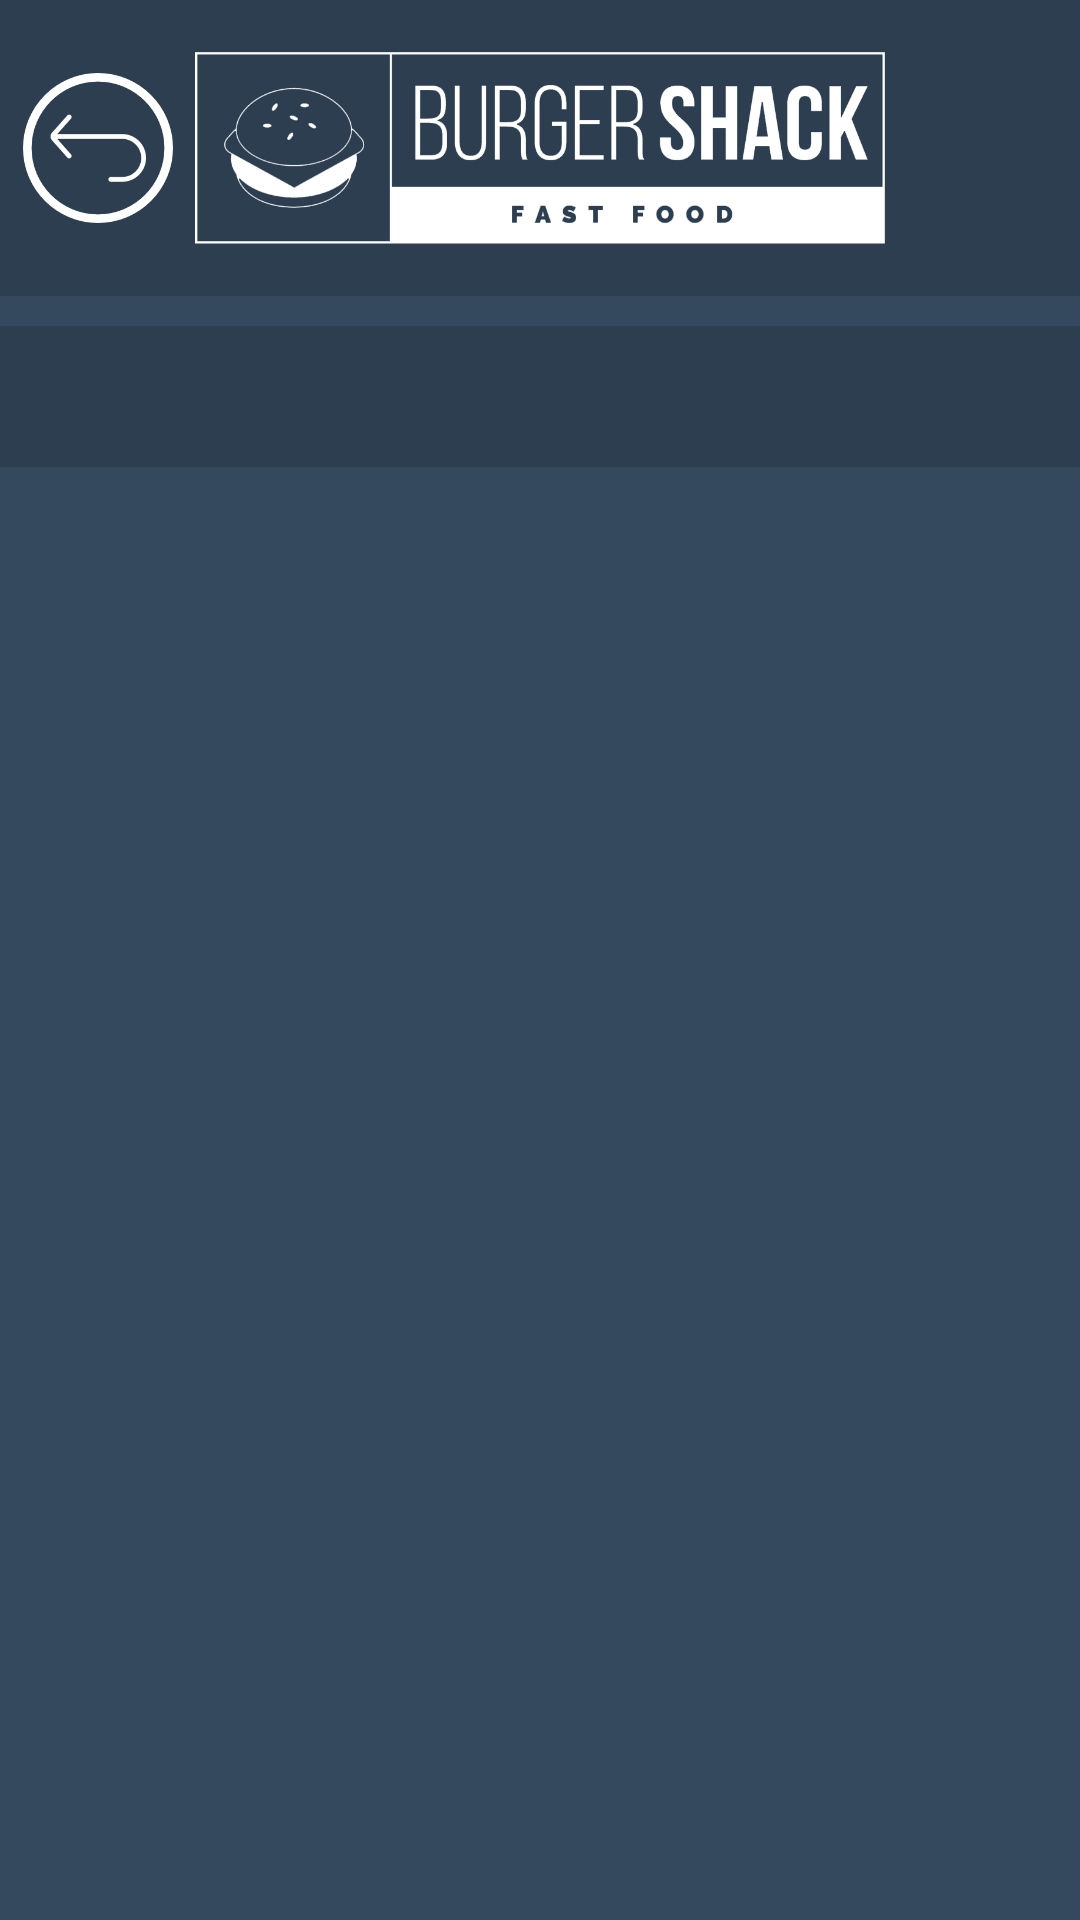

Where icons sit on this 1080 x 1920 app screen, as detection(x1, y1, x2, y2):
back: detection(23, 73, 173, 223)
